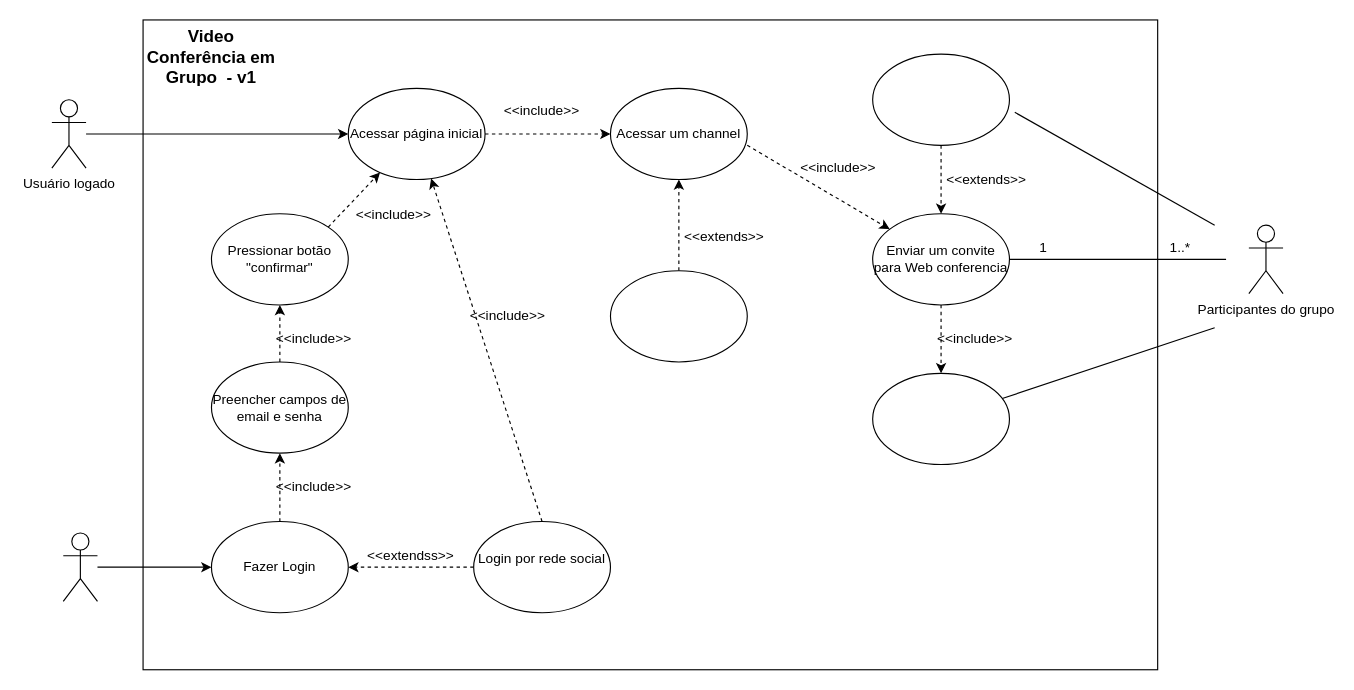
This 1354x690 diagram has some shape labels left out. The shapes that lost their labels are listed below. From the top down, each one's centre as x and y in pixels, then its label:
At (940,99): "Ignorar convite".
At (678,316): "Pesquisar o Channel pela barra de pesquisa".
At (940,418): "Aceitar convite".
At (79,566): "Usuário não logado".
